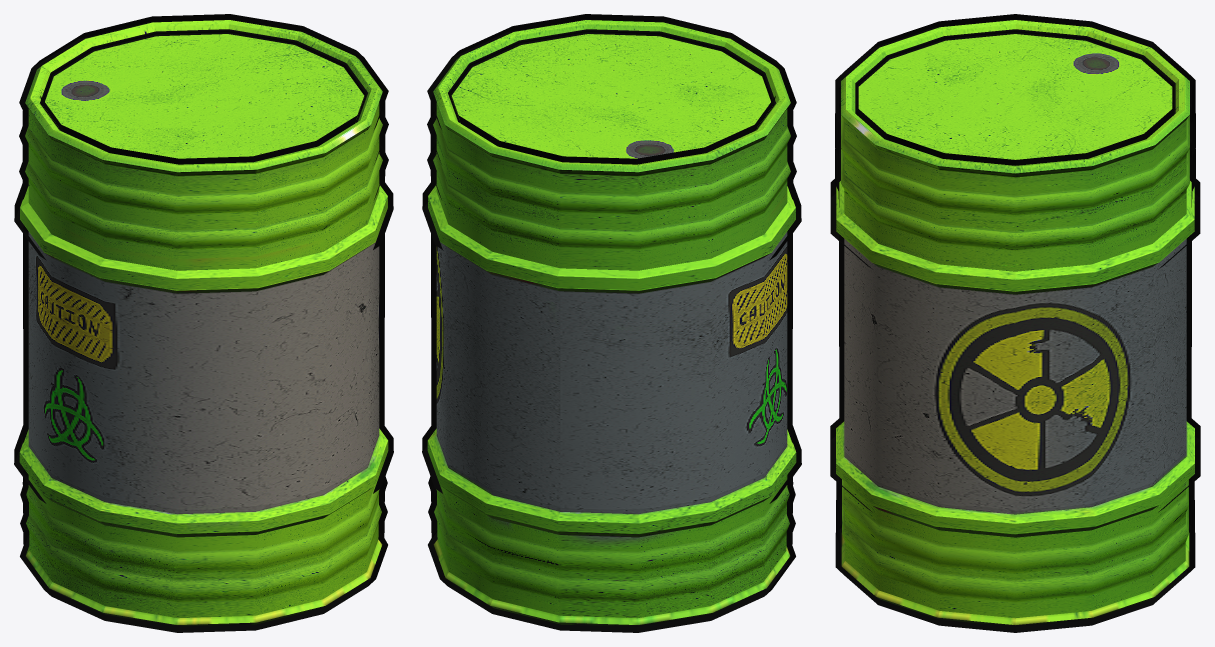
The model's file is TOXIC BARREL.fbx.
The picture shows the model from 3 angles, left to right: view 1: azimuth 30°, elevation 25°; view 2: azimuth 150°, elevation 25°; view 3: azimuth 270°, elevation 25°; orthographic projection.
Parts seen in each view (by area): view 1: Toxin_Barrel:pCylinder1, Toxin_Barrel:Outline; view 2: Toxin_Barrel:pCylinder1, Toxin_Barrel:Outline; view 3: Toxin_Barrel:pCylinder1, Toxin_Barrel:Outline.
Boxes of the visible parts, x1,y1,x2,y2 form: Toxin_Barrel:pCylinder1: [19, 20, 388, 626]; Toxin_Barrel:Outline: [14, 14, 393, 632]; Toxin_Barrel:pCylinder1: [427, 20, 796, 626]; Toxin_Barrel:Outline: [422, 14, 801, 632]; Toxin_Barrel:pCylinder1: [836, 20, 1194, 626]; Toxin_Barrel:Outline: [830, 14, 1200, 632].
Size of the model in its own units: 8.54 by 11.67 by 8.33.
Materials: 2 (1 with a texture image).
